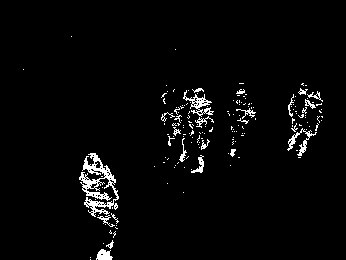person: (80, 150, 120, 259), (228, 80, 254, 159), (191, 87, 214, 176), (174, 88, 197, 163), (301, 89, 324, 158), (290, 82, 305, 150)
